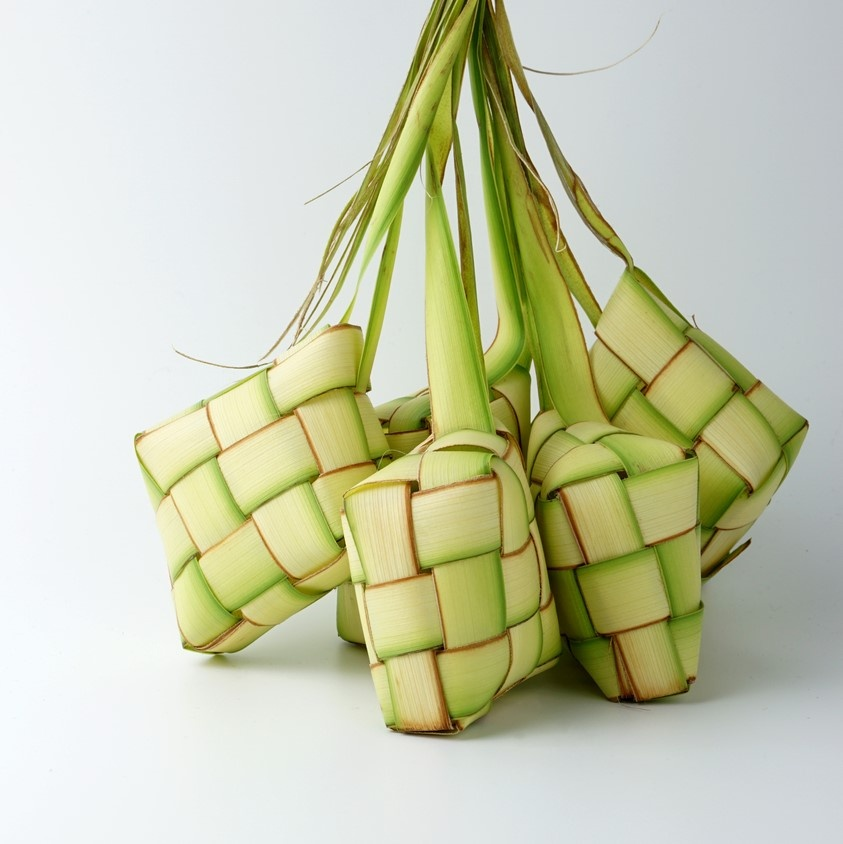ketupat: (129, 324, 394, 657), (344, 431, 564, 726)
